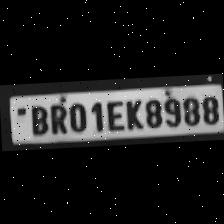0: (64, 100, 88, 134)
1: (85, 99, 105, 133)
8: (196, 91, 220, 125), (140, 96, 164, 128), (179, 92, 201, 126)
9: (160, 93, 180, 127)
B: (26, 102, 48, 136)
E: (102, 98, 124, 132)
K: (121, 97, 143, 131)
R: (45, 100, 67, 136)
